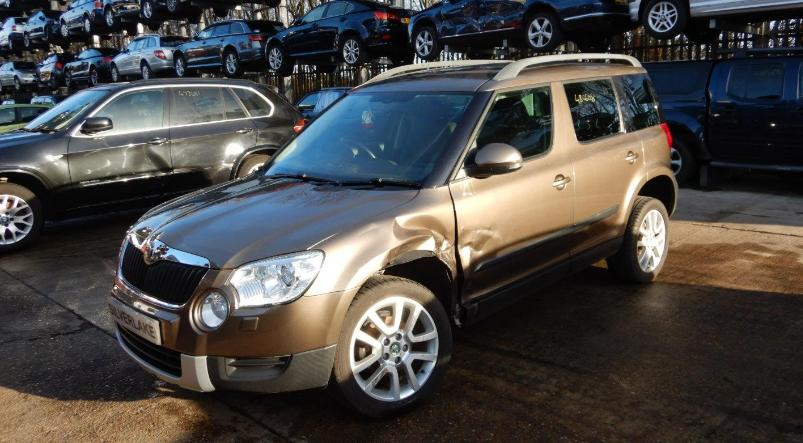Back-door: (561, 75, 649, 255)
Back-wheel: (607, 197, 670, 284)
Back-window: (565, 78, 633, 144), (618, 73, 663, 129)
Fender: (306, 186, 464, 306)
Front-bumper: (111, 272, 353, 392)
Front-door: (448, 82, 574, 301)
Front-wheel: (332, 278, 453, 419)
Front-window: (449, 84, 551, 167)
Grille: (121, 241, 208, 306)
Headlight: (227, 253, 321, 310)
Hood: (130, 172, 425, 268)
License-plate: (112, 298, 159, 343)
Mirror: (471, 144, 521, 175)
Quarter-panel: (637, 126, 678, 187)
Rocker-panel: (451, 228, 627, 329)
Roof: (355, 53, 645, 91)
Tail-light: (660, 123, 673, 154)
Windshield: (261, 89, 480, 186)
